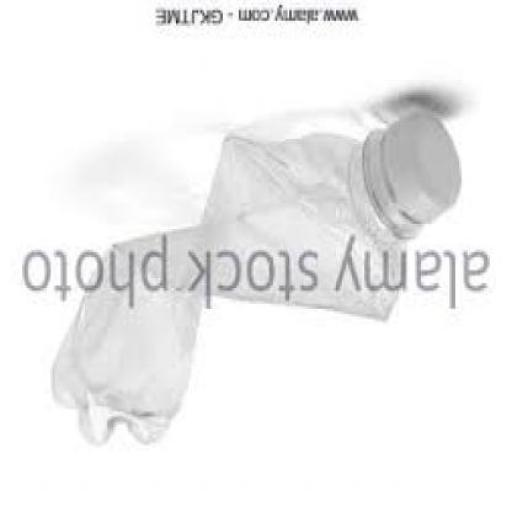plastic: (54, 116, 460, 450), (366, 119, 464, 242)
